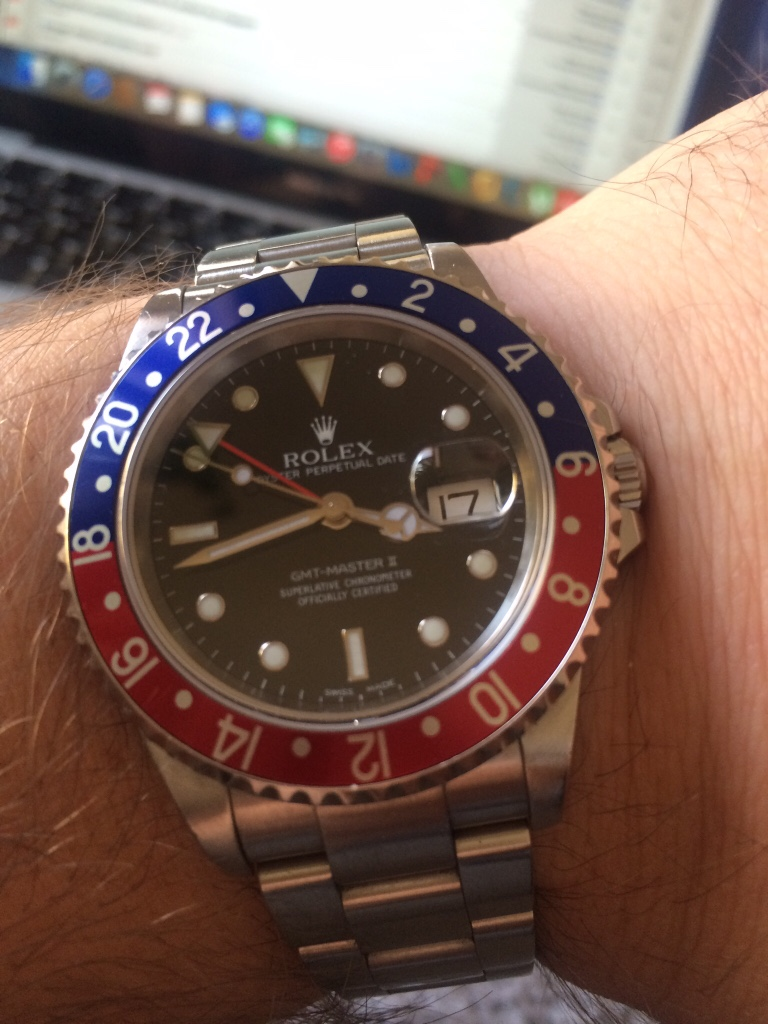clock: (150, 341, 529, 711)
